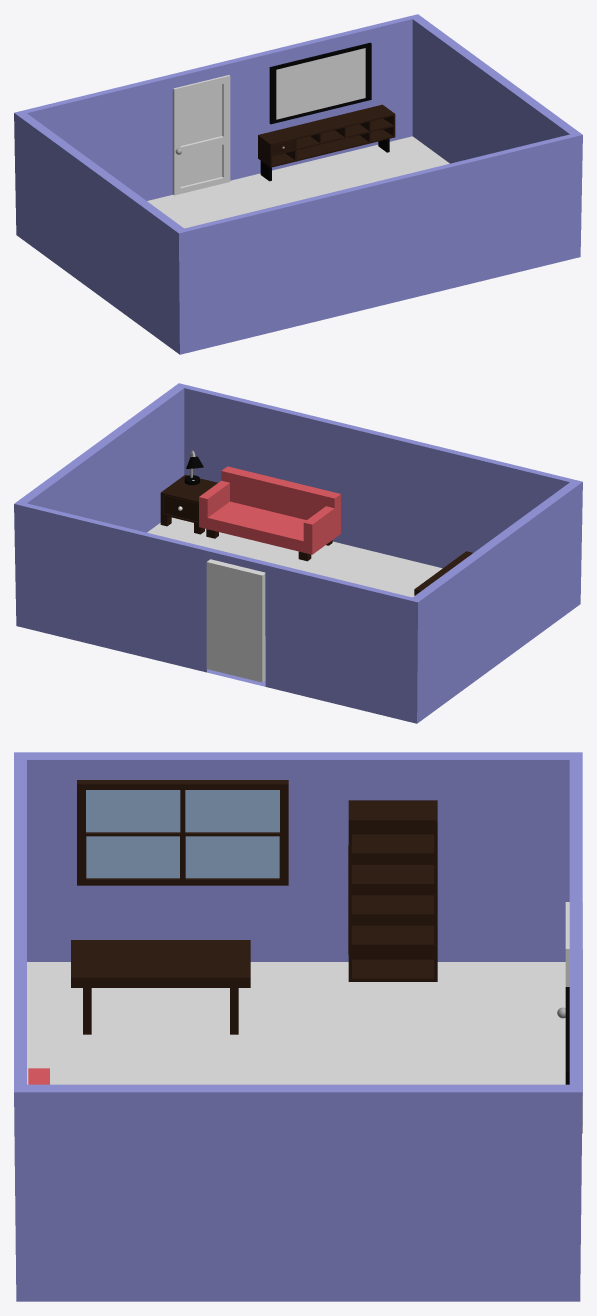
The model's file is General Room 1.fbx.
3 renders of one model, top to bottom at view 1: azimuth 30°, elevation 25°; view 2: azimuth 150°, elevation 25°; view 3: azimuth 270°, elevation 25°, orthographic. The views are drawn at different scales.
Parts seen in each view (by area): view 1: Walls, Floor, Door, TV, TV Cabinet Main; view 2: Walls, Couch, Floor, Door, Drawer Main, Drawer; view 3: Walls, Floor, Window, Tall Shelf, Table, Door.
Part boxes in pixels (<box>): Walls: <box>14,14,582,354</box>; Floor: <box>147,136,449,228</box>; Door: <box>172,75,230,195</box>; TV: <box>269,42,371,124</box>; TV Cabinet Main: <box>258,104,395,181</box>; Walls: <box>14,383,582,723</box>; Couch: <box>199,466,340,561</box>; Floor: <box>147,517,442,597</box>; Door: <box>206,559,265,682</box>; Drawer Main: <box>160,475,217,534</box>; Drawer: <box>164,495,197,521</box>; Walls: <box>14,752,582,1301</box>; Floor: <box>27,962,565,1084</box>; Window: <box>77,780,288,885</box>; Tall Shelf: <box>348,800,437,981</box>; Table: <box>71,940,250,1034</box>; Door: <box>557,902,582,1133</box>.
Bounding box in the file's own units: 1805 × 522 × 1277.
